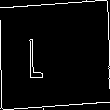L_N: (47, 29, 63, 81)
